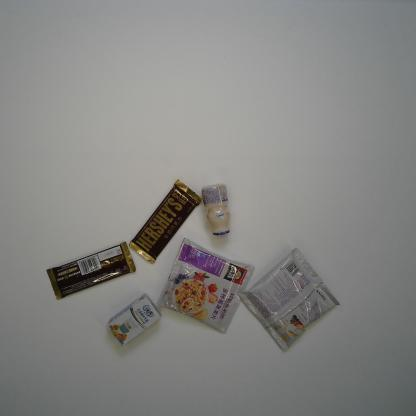Chocolate: (129, 178, 202, 265), (46, 240, 137, 301)
Instant Drink: (236, 246, 341, 352), (156, 237, 256, 335)
Milk: (106, 292, 163, 347), (201, 182, 231, 236)
